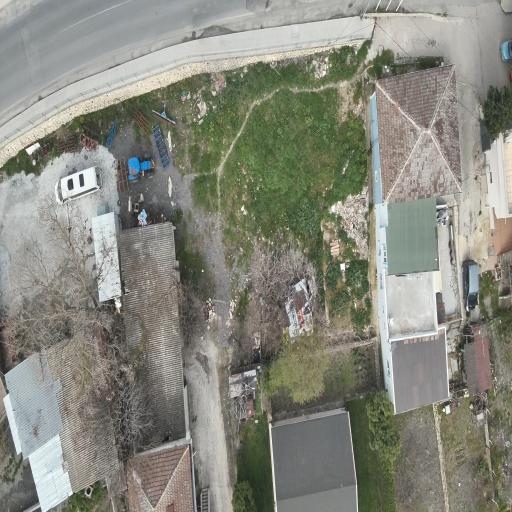car: (55, 166, 102, 204), (462, 261, 478, 312), (128, 157, 155, 182), (501, 41, 511, 62)
